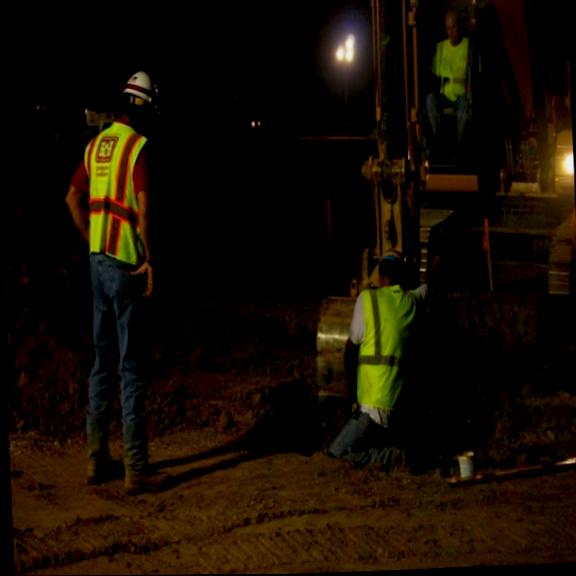safety_vest: (80, 120, 151, 267), (350, 281, 423, 413), (432, 38, 473, 108)
